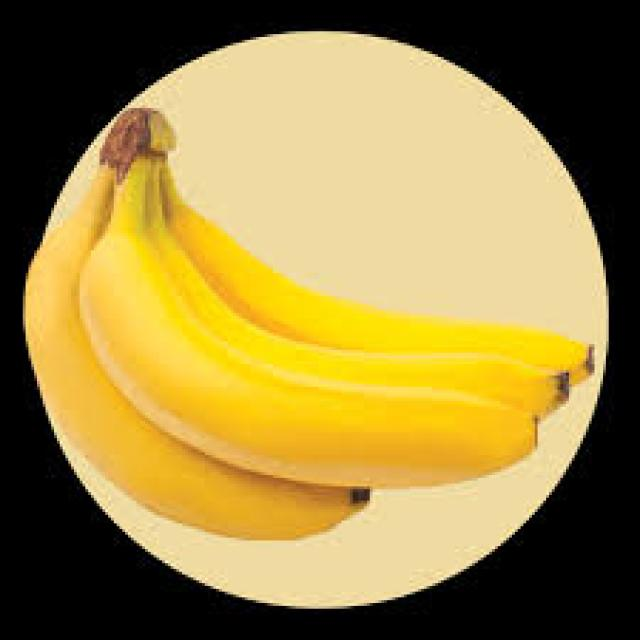banana: (20, 105, 594, 540)
